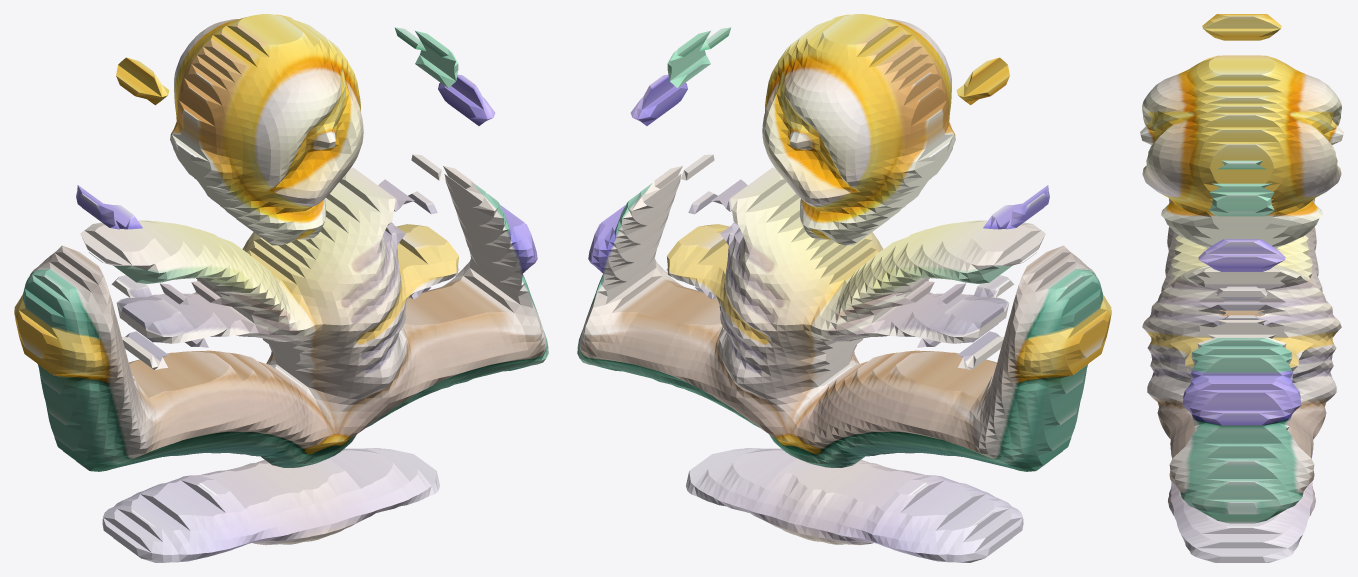
Rendered from pusula-kitap.glb.
3 views of the same model, side by side, from view 1: azimuth 30°, elevation 25°; view 2: azimuth 150°, elevation 25°; view 3: azimuth 270°, elevation 25° (orthographic). The views are drawn at different scales.
Parts seen in each view (by area): view 1: geometry_0; view 2: geometry_0; view 3: geometry_0.
Boxes of the visible parts, bbox=[...] form: geometry_0: bbox=[14, 14, 548, 562]; geometry_0: bbox=[577, 14, 1111, 562]; geometry_0: bbox=[1140, 14, 1343, 562].
Size of the model in its own units: 0.7715 by 0.7324 by 0.3026.
1 material, 1 textured.
